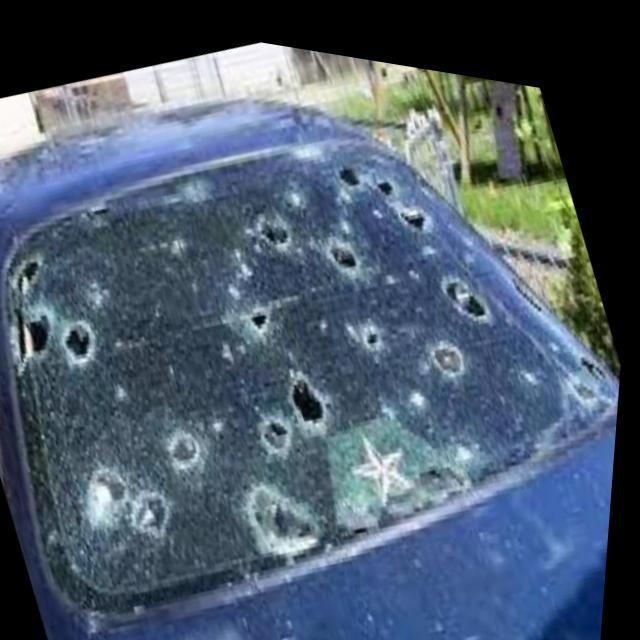glass shatter: (0, 129, 623, 620)
